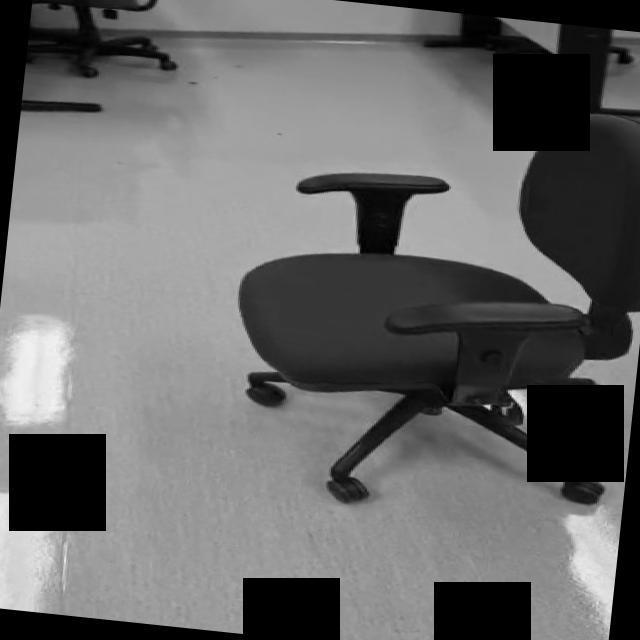chair: (216, 77, 640, 531)
